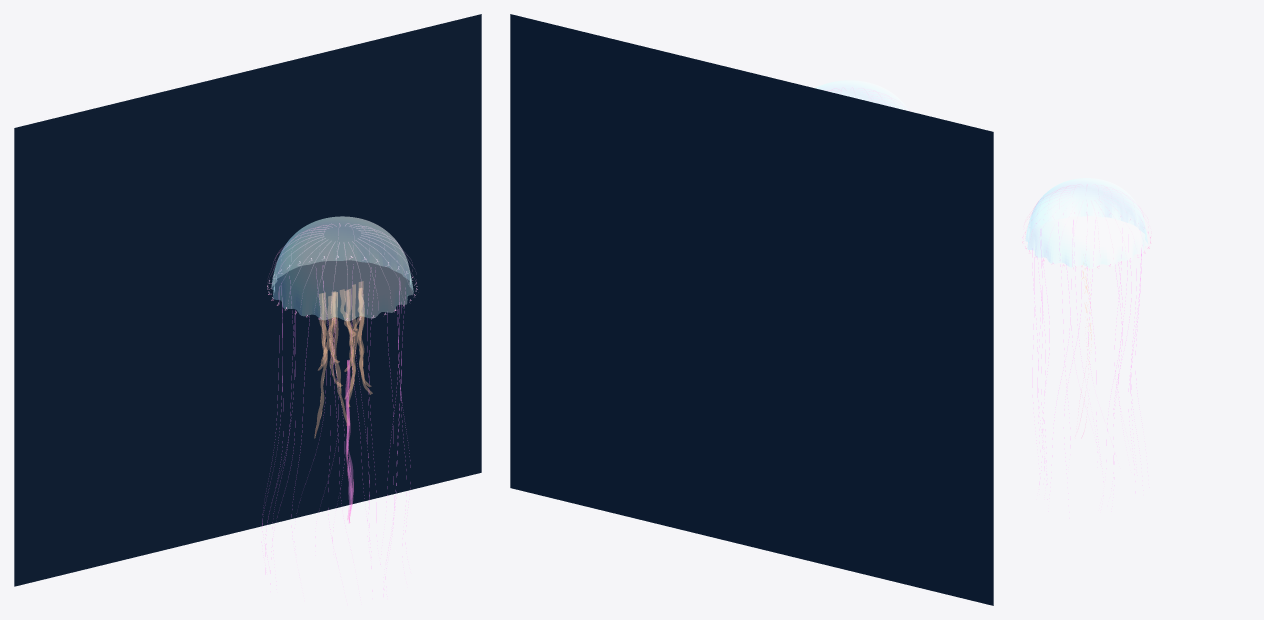
File: jellyfish_candidate.glb
3 views of the same model, side by side, from view 1: azimuth 30°, elevation 25°; view 2: azimuth 150°, elevation 25°; view 3: azimuth 270°, elevation 25° (orthographic). The views are drawn at different scales.
Parts seen in each view (by area): view 1: reference_jellyfish_dark_water_backdrop, reference_jellyfish_bell, reference_jellyfish_oral_arms, reference_jellyfish_long_tentacles, reference_jellyfish_trailing_oral_tail; view 2: reference_jellyfish_dark_water_backdrop, reference_jellyfish_bell; view 3: reference_jellyfish_bell, reference_jellyfish_long_tentacles.
Part boxes in pixels (box(x1,y1,x2,y2)): reference_jellyfish_dark_water_backdrop: box(14, 14, 481, 586); reference_jellyfish_bell: box(271, 216, 413, 320); reference_jellyfish_oral_arms: box(314, 281, 372, 438); reference_jellyfish_long_tentacles: box(261, 281, 410, 596); reference_jellyfish_trailing_oral_tail: box(345, 360, 353, 522); reference_jellyfish_dark_water_backdrop: box(510, 14, 993, 605); reference_jellyfish_bell: box(815, 80, 908, 110); reference_jellyfish_bell: box(1025, 178, 1147, 267); reference_jellyfish_long_tentacles: box(1032, 220, 1142, 499).
Size of the model in its own units: 8 by 7.5 by 3.91.
